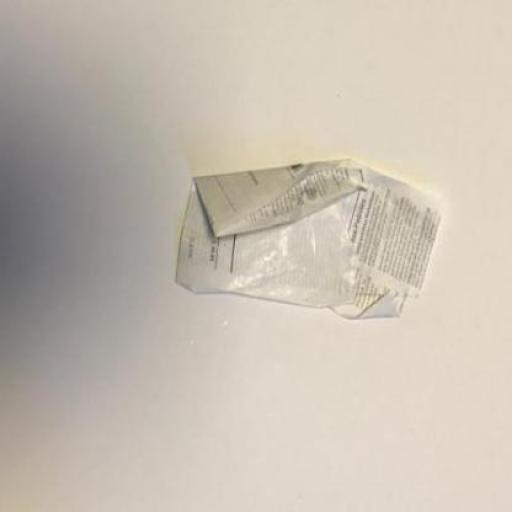paper: (175, 163, 444, 318)
